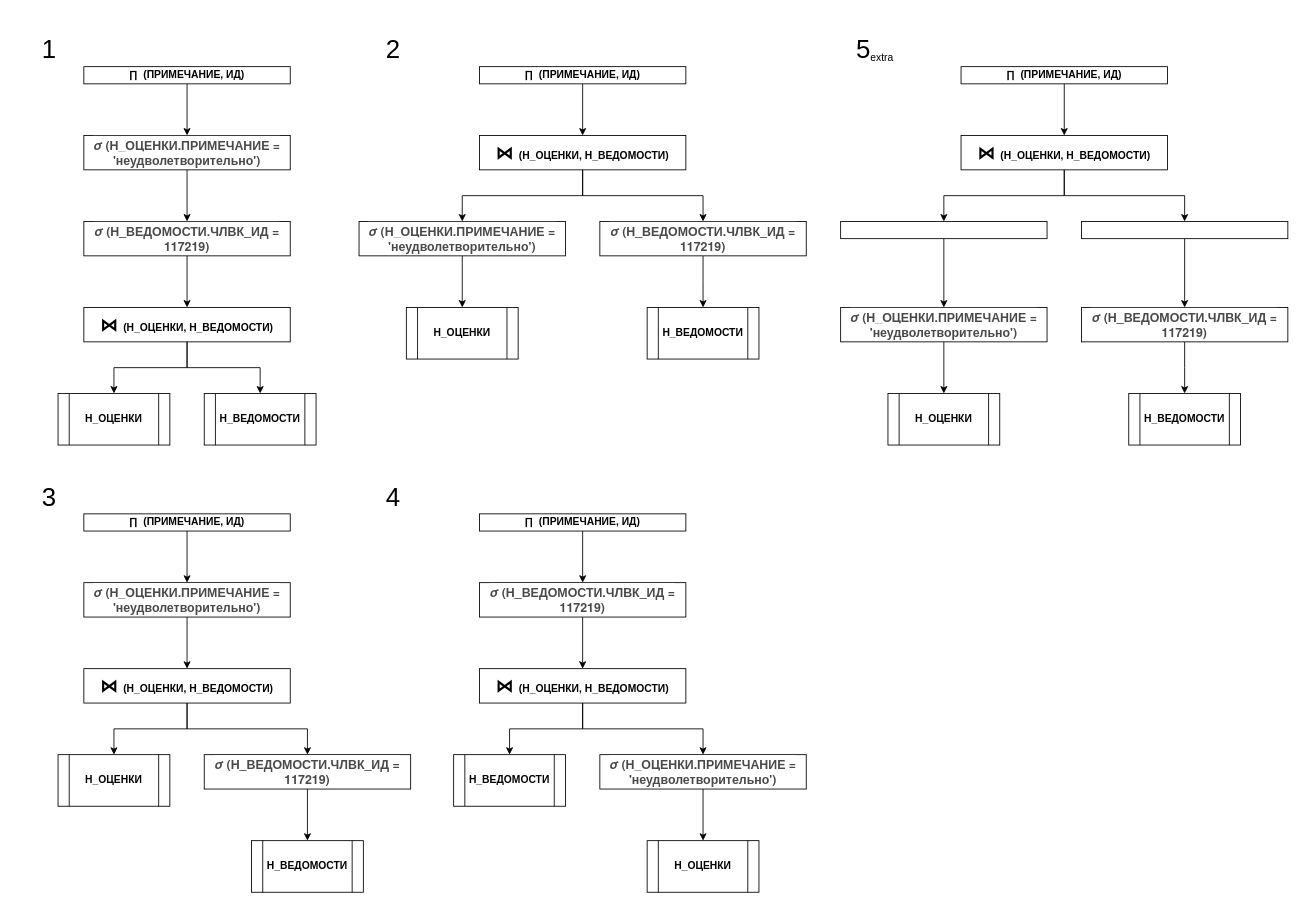
Some shapes in this 1303 by 907 pixel diagram are drawn without their labels. The centre of each missing label's shape, as x and y in pixels:
"∏ (ПРИМЕЧАНИЕ, КОД)" belongs at (943,230).
"∏ (ЧЛВК_ИД, ИД)" belongs at (1184,230).
